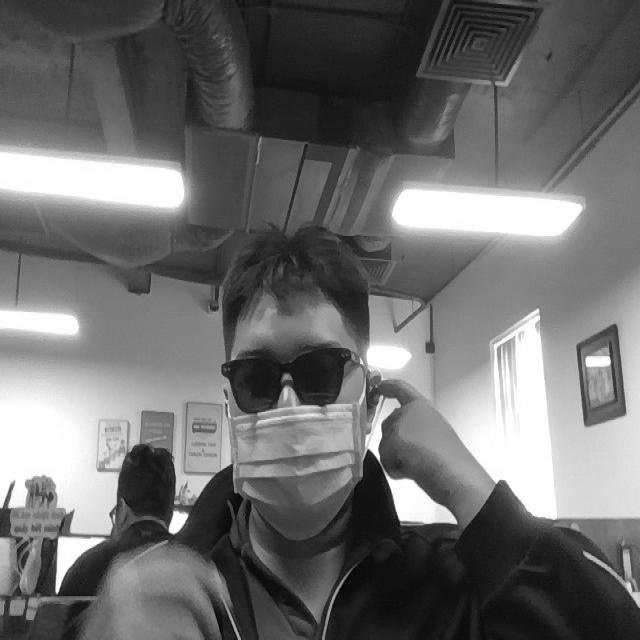fake: (231, 412, 366, 536), (223, 346, 353, 407)
